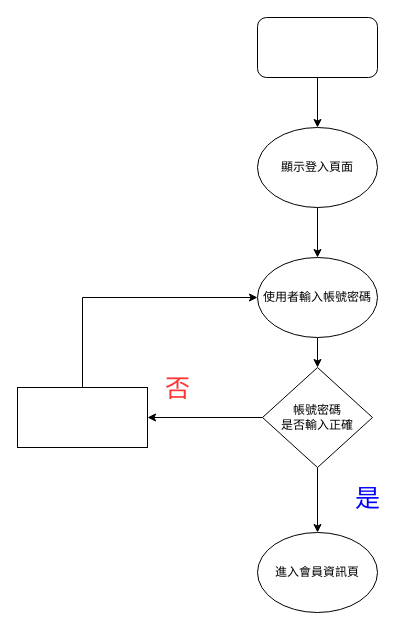
The diagram is 405 pixels wide and 630 high, and some of its shapes have lost their labels. The centre of each missing label's shape, as x and y in pixels:
會員登入: (317,47)
顯示帳號密碼資訊錯誤: (82,417)
